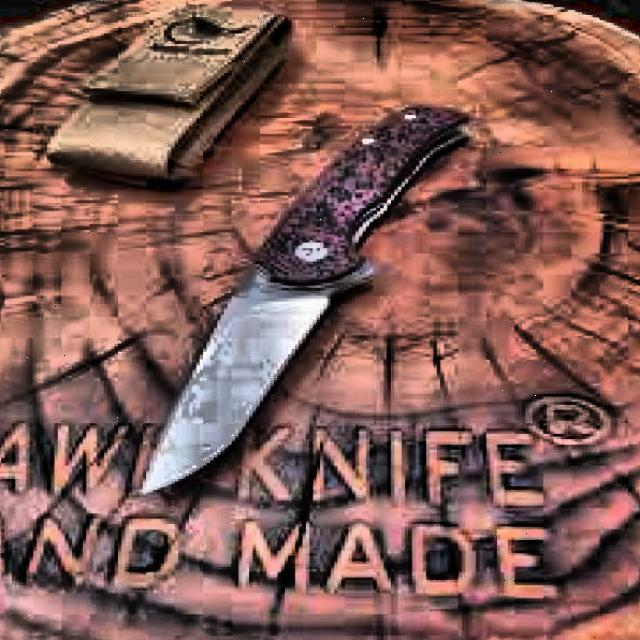knife: (123, 93, 480, 510)
